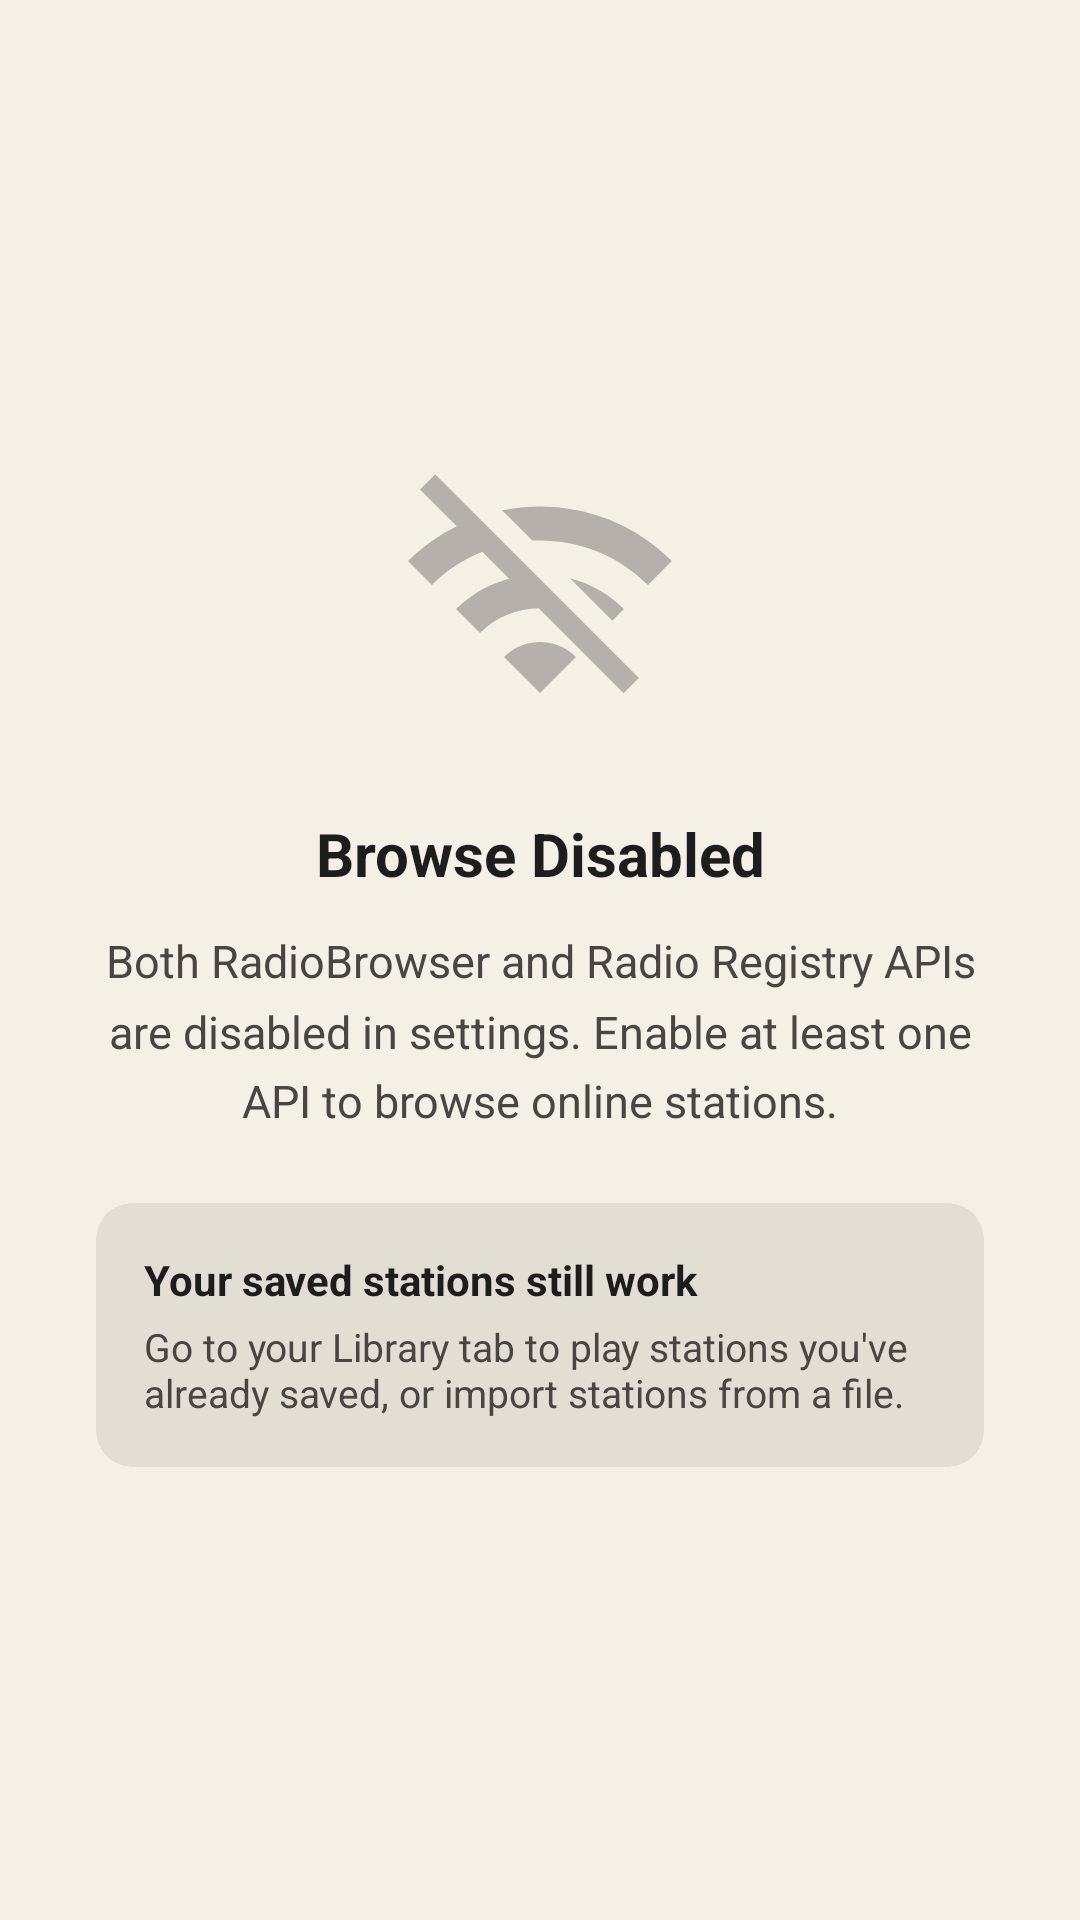

Where icons sit on this 1080 × 1920 app screen, as (x1, y1, x2, y2):
wifi off: (408, 474, 672, 693)
